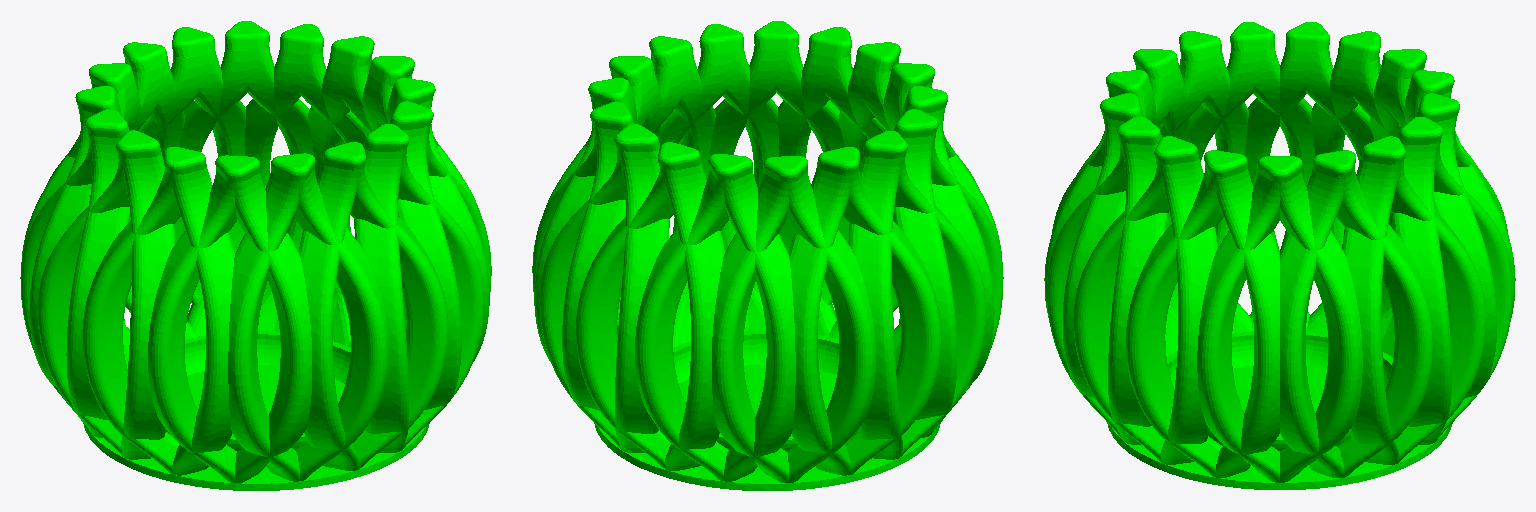
The robot description file, URDF, robot "small_holder":
<robot name="small_holder">
	<link name="_name">
		<visual>
			<origin rpy="1.57 0.0 0.0" xyz="1.4891129352385525e-06 -0.00023838389256224685 -0.29876466774418015" />
			<geometry>
				<mesh filename="small_holder/holder.obj" scale="0.01 0.01 0.01" />
			</geometry>
			<material name="texture">
				<color rgba="0.0 1.0 0.0 1.0" />
			</material>
		</visual>
		<collision>
			<origin rpy="1.57 0.0 0.0" xyz="1.4891129352385525e-06 -0.00023838389256224685 -0.29876466774418015" />
			<geometry>
				<mesh filename="small_holder/holder_vhacd.obj" scale="0.01 0.01 0.01" />
			</geometry>
		</collision>
		<inertial>
			<mass value="1.0" />
			<inertia ixx="1.0" ixy="0.0" ixz="0.0" iyy="1.0" iyz="0.0" izz="1.0" />
		</inertial>
	</link>
</robot>

--- What the picture shows (computed from the rendered views, not written in the file) ---
3 views of the same robot in one strip: view 1: azimuth 30°, elevation 25°; view 2: azimuth 150°, elevation 25°; view 3: azimuth 270°, elevation 25° (orthographic).
Model small_holder with 1 links and 0 joints (none), rooted at _name, posed all joints at 0.
Visible links, largest first — view 1: _name; view 2: _name; view 3: _name.
Link boxes in pixels (x1,y1,x2,y2): _name: (20, 21, 491, 490); _name: (532, 21, 1003, 490); _name: (1044, 22, 1515, 489).
Size in the robot's own frame: 0.8584 by 0.8616 by 0.6505 metres.
1 mesh visuals loaded from 1 distinct referenced files (1 OBJ).